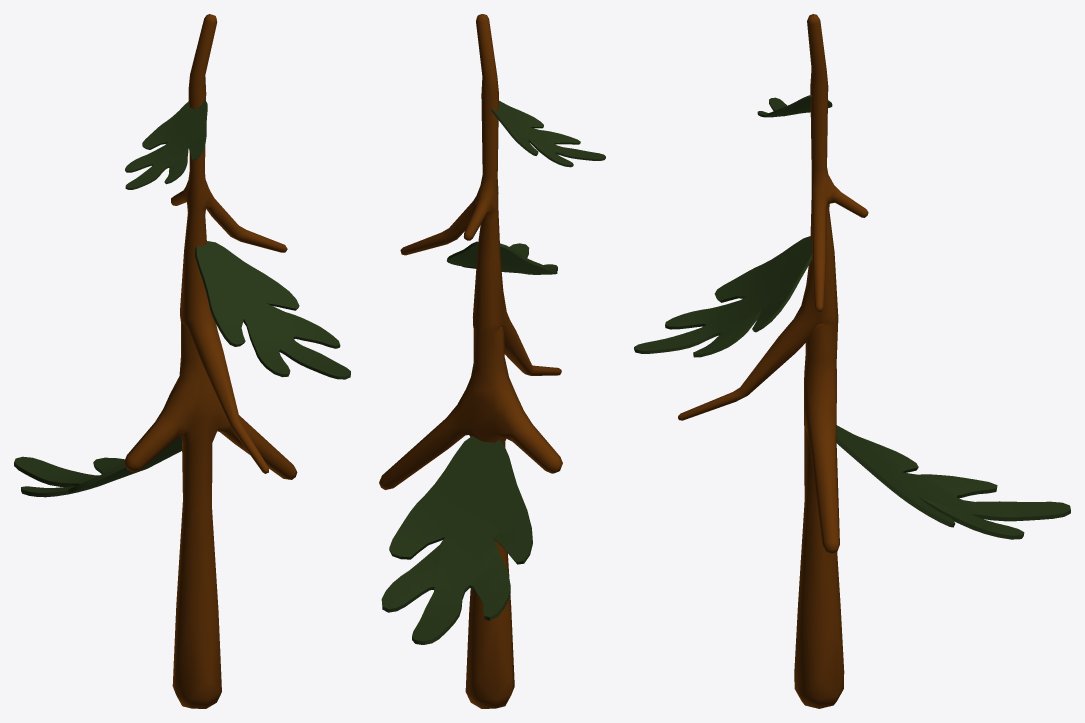
The model's file is tree1.fbx.
The picture shows the model from 3 angles, left to right: view 1: azimuth 30°, elevation 25°; view 2: azimuth 150°, elevation 25°; view 3: azimuth 270°, elevation 25°; orthographic projection.
Visible parts, largest first — view 1: tree1; view 2: tree1; view 3: tree1.
Part boxes in pixels (x1,y1,x2,y2): tree1: [14, 14, 350, 708]; tree1: [379, 14, 605, 708]; tree1: [634, 14, 1070, 708].
Bounding box in the file's own units: 40.32 × 134 × 76.46.
